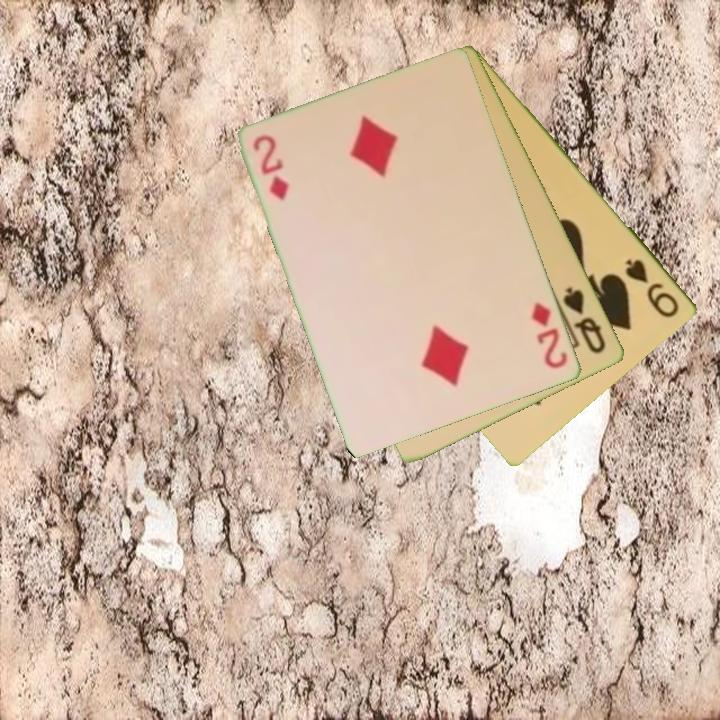2d: (528, 298, 571, 372), (250, 131, 293, 204)
9s: (622, 255, 683, 321)
Qs: (560, 283, 609, 357)
